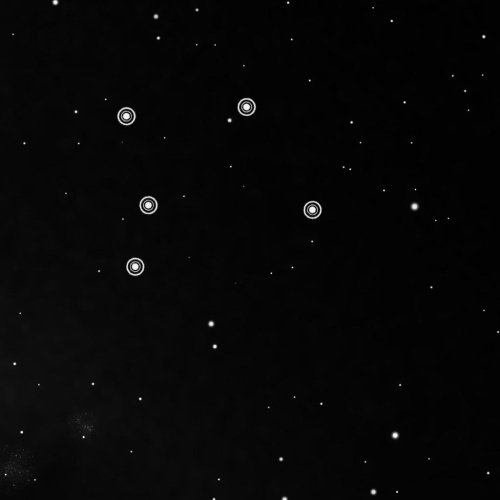libra: (109, 92, 327, 288)
